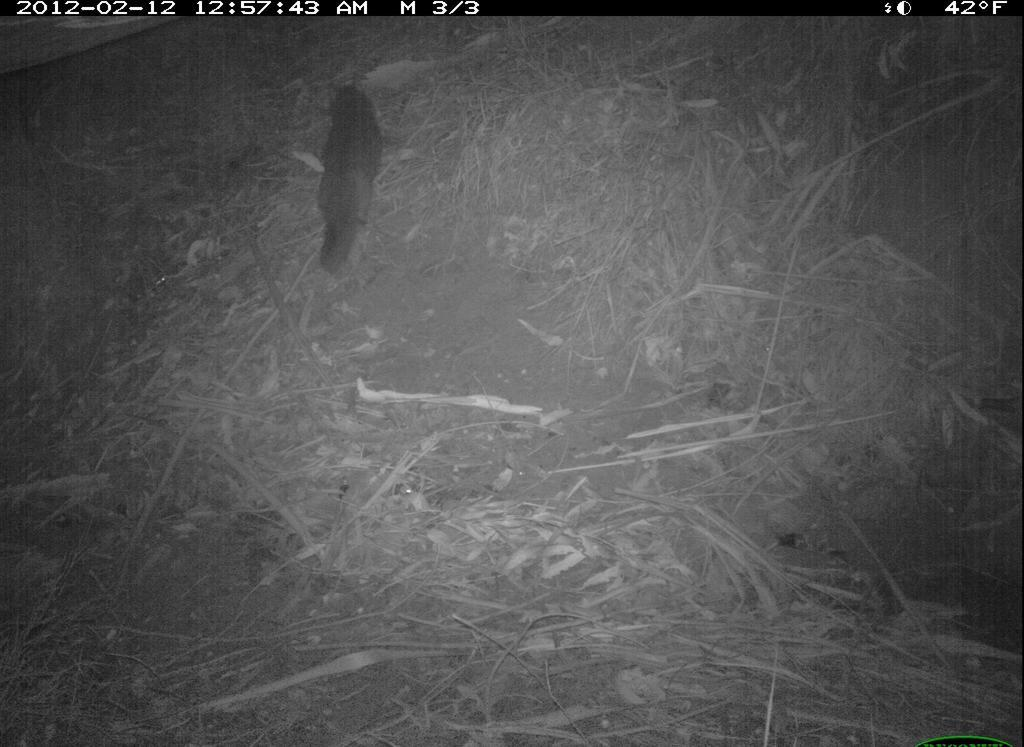cat: (297, 72, 413, 278)
